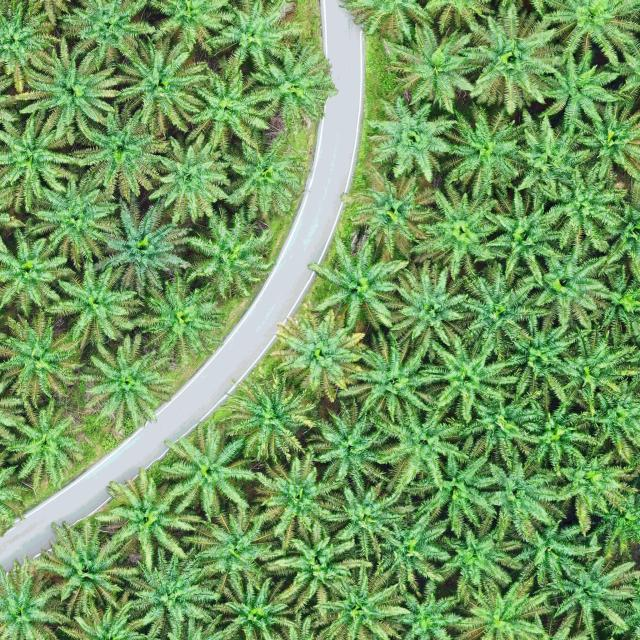Tree: (15, 35, 122, 149), (100, 32, 216, 136), (90, 195, 198, 298), (305, 235, 411, 339), (466, 2, 562, 114), (64, 105, 173, 203), (26, 518, 134, 614), (431, 103, 532, 202), (342, 332, 439, 435), (261, 523, 367, 615), (170, 208, 276, 300), (367, 401, 472, 493), (103, 474, 198, 574), (384, 21, 484, 116), (41, 256, 142, 350), (406, 447, 512, 535), (272, 306, 367, 404), (137, 132, 232, 230), (79, 334, 177, 429), (534, 551, 638, 640), (150, 430, 255, 518), (222, 372, 320, 466), (408, 182, 503, 278), (0, 104, 83, 213), (340, 169, 436, 263), (26, 170, 120, 266), (127, 270, 225, 362), (380, 260, 471, 358), (0, 396, 89, 496), (453, 262, 556, 348), (416, 339, 520, 424), (304, 400, 396, 496), (184, 506, 281, 596), (366, 497, 452, 598), (218, 124, 308, 220), (122, 545, 222, 631), (479, 190, 570, 283), (364, 93, 459, 182), (321, 474, 413, 564), (182, 63, 274, 153), (312, 559, 414, 640), (496, 318, 582, 414), (247, 42, 340, 128), (0, 314, 84, 408), (199, 0, 308, 71), (512, 399, 607, 478), (556, 321, 640, 409), (484, 455, 572, 539), (536, 49, 622, 134), (55, 0, 157, 71), (253, 454, 333, 544), (512, 105, 592, 195), (558, 450, 640, 535), (549, 163, 628, 251), (0, 230, 76, 321), (456, 575, 560, 640), (458, 386, 548, 461), (0, 554, 78, 640), (545, 0, 640, 70), (532, 237, 613, 319), (208, 569, 299, 640), (518, 515, 603, 591), (437, 523, 524, 597), (569, 100, 640, 181), (582, 382, 640, 467), (394, 572, 466, 640), (52, 594, 151, 640), (584, 487, 640, 560), (588, 260, 640, 328)
